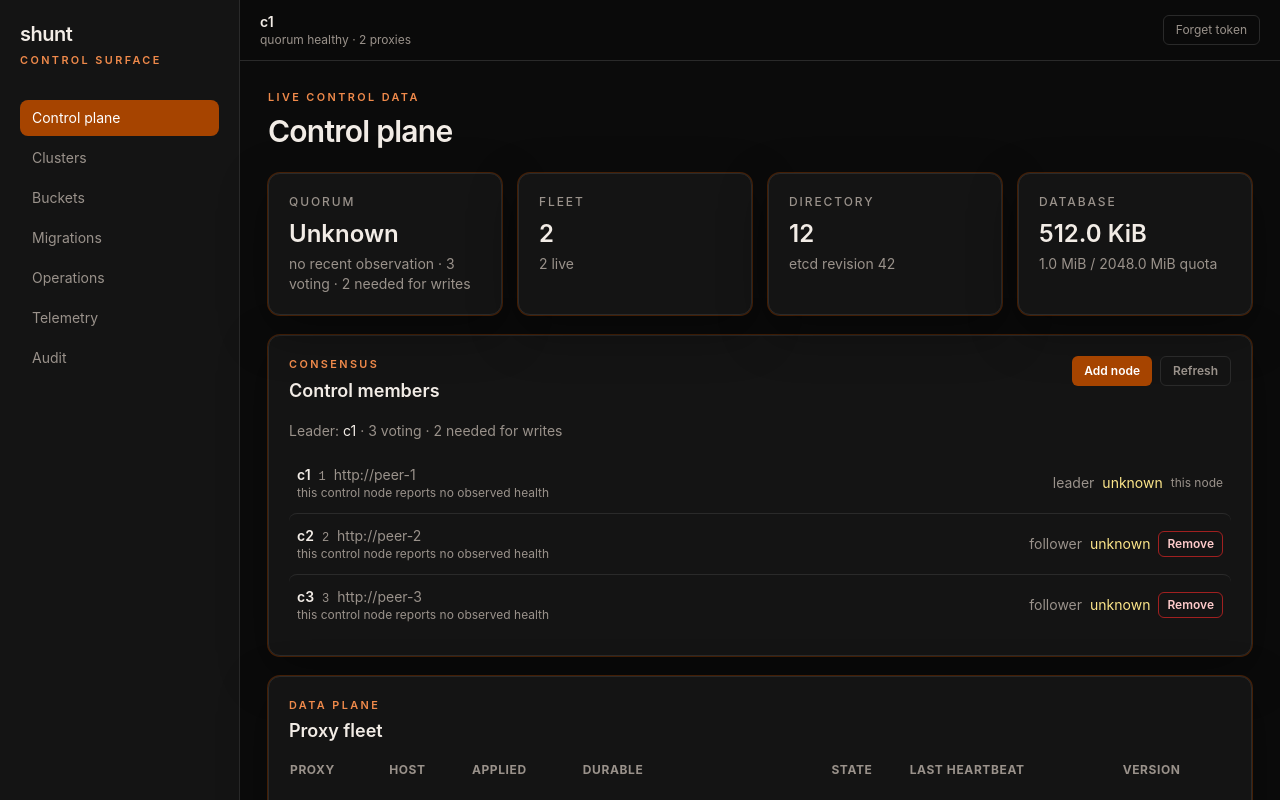
Test case: shows the live audit tail instead of a placeholder screen
Expected: the heading "Control members" is shown, [289, 377, 440, 405]
Step 1. Click the button "Audit" → (120, 358), box [20, 340, 219, 376]
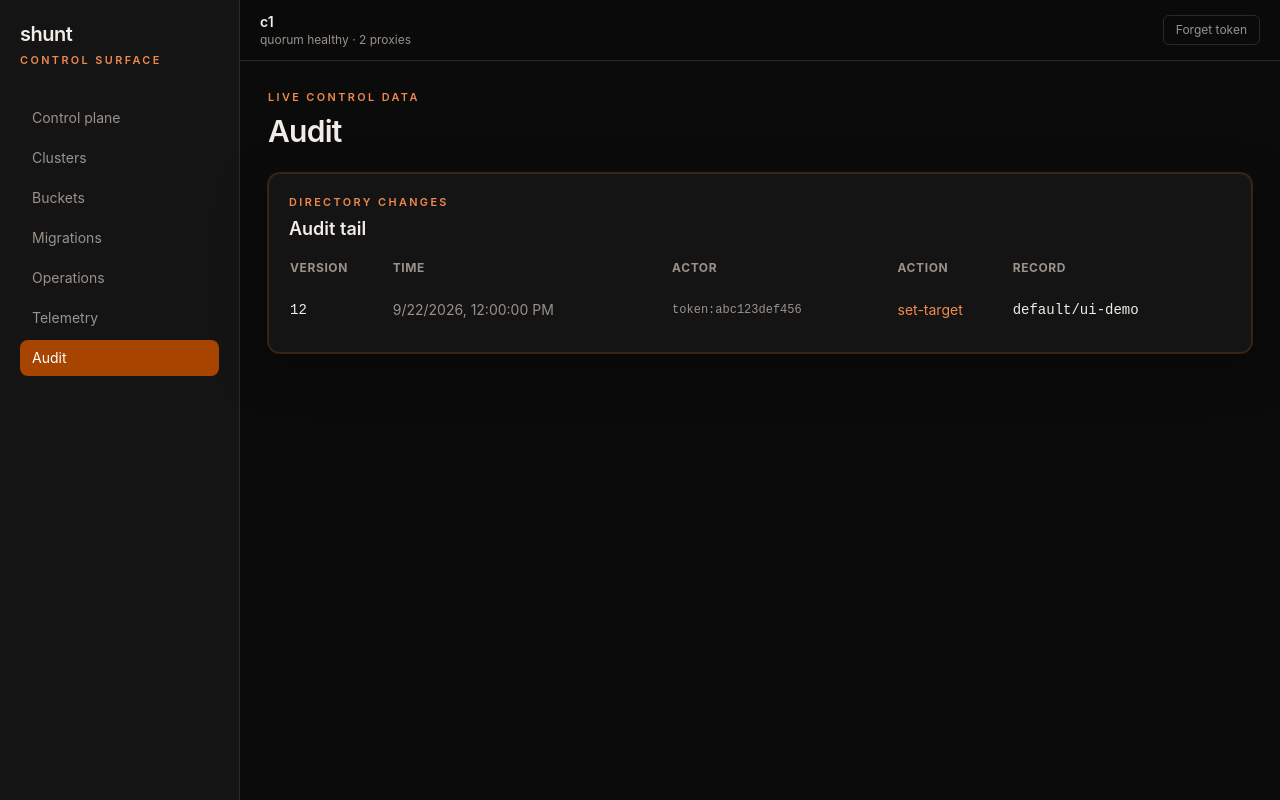
Now the text "token:abc123def456" is shown, box [671, 288, 897, 332]
Now the text "set-target" is shown, box [897, 288, 1012, 332]
Now the text "default/ui-demo" is shown, box [1012, 288, 1231, 332]
